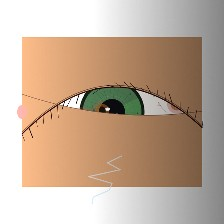foreign_body_visible: (81, 93, 124, 128)
